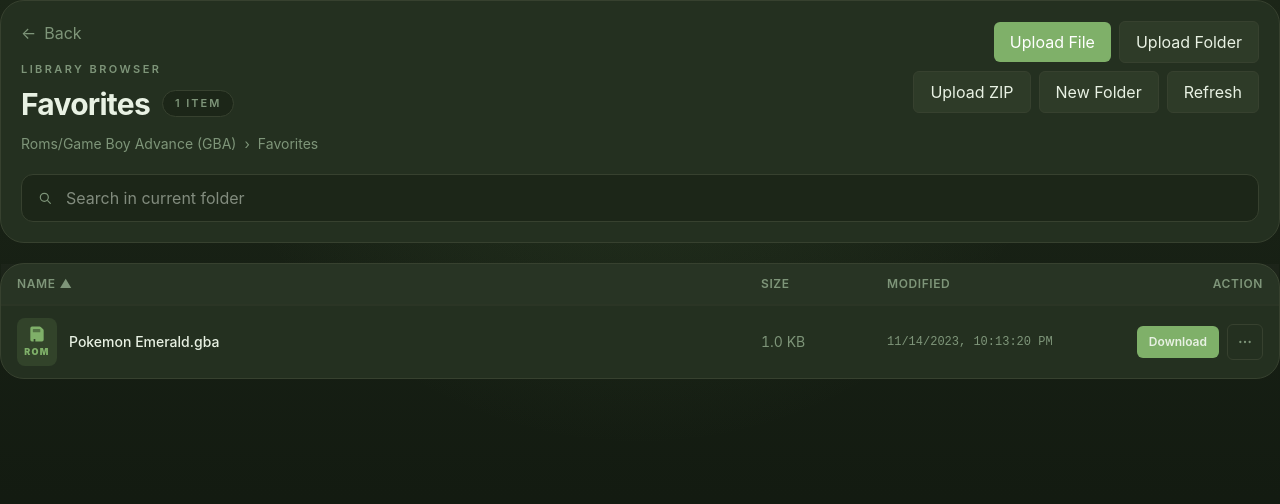
Test: BrowserView › renders library browser chrome with ROM-only folder actions and a search bar
Expected: the navigation bar named "Library path" is shown, [21,134,318,154]
Expected: the heading "Favorites" is shown, [21,86,150,122]
Click the button named "More actions for Pokemon Emerald.gba" at [1245, 342], box [1227,324,1263,360]
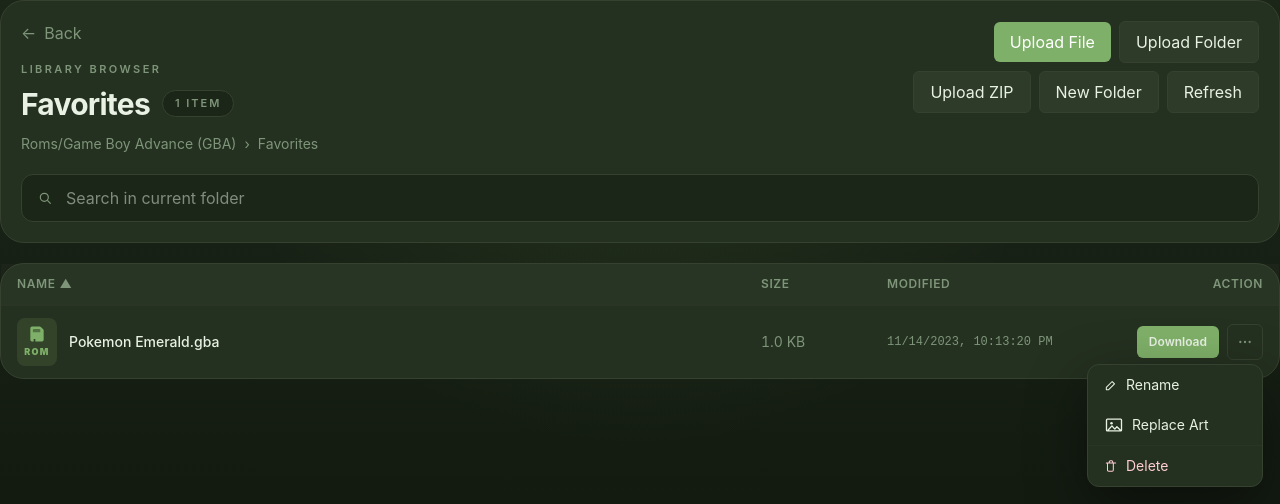
Expected: the menu item "Rename" is shown, [1088,364,1262,404]
Expected: the menu item "Replace Art" is shown, [1088,404,1262,444]
Expected: the menu item "Delete" is shown, [1088,444,1262,486]
